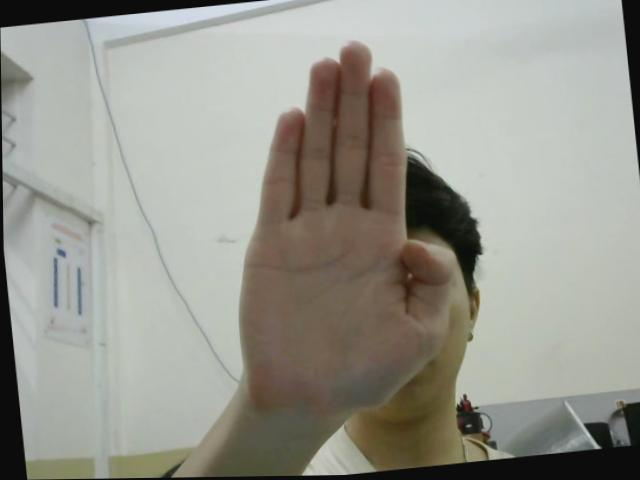B: (207, 32, 461, 429)
